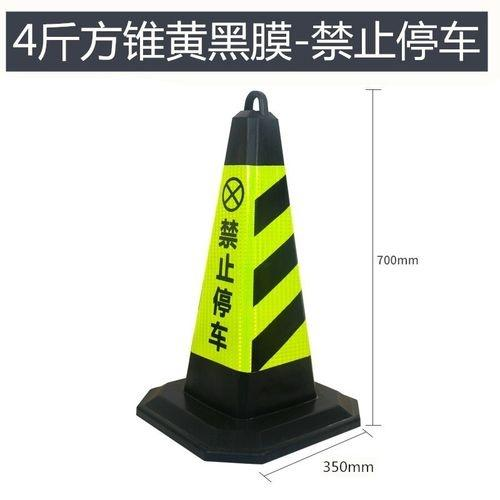cone_barrel: (154, 94, 336, 455)
